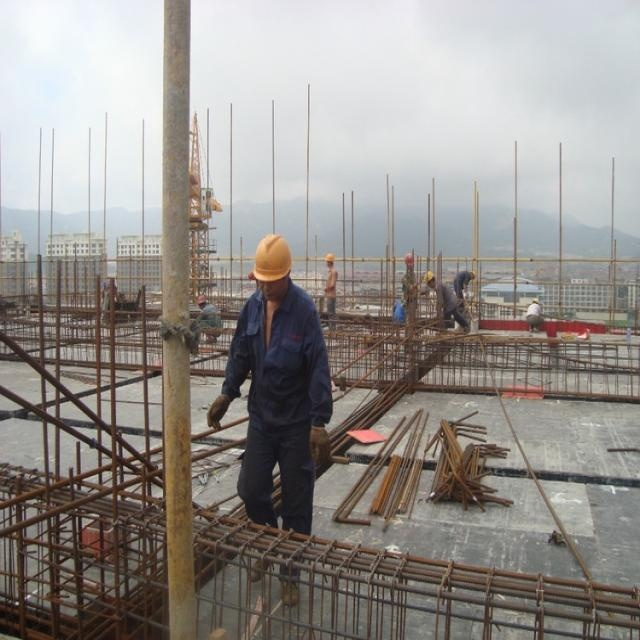Con_Casco: (252, 232, 291, 293)
